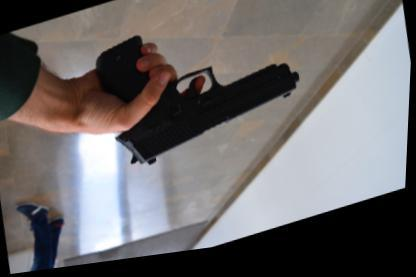pistol: (88, 0, 310, 182)
